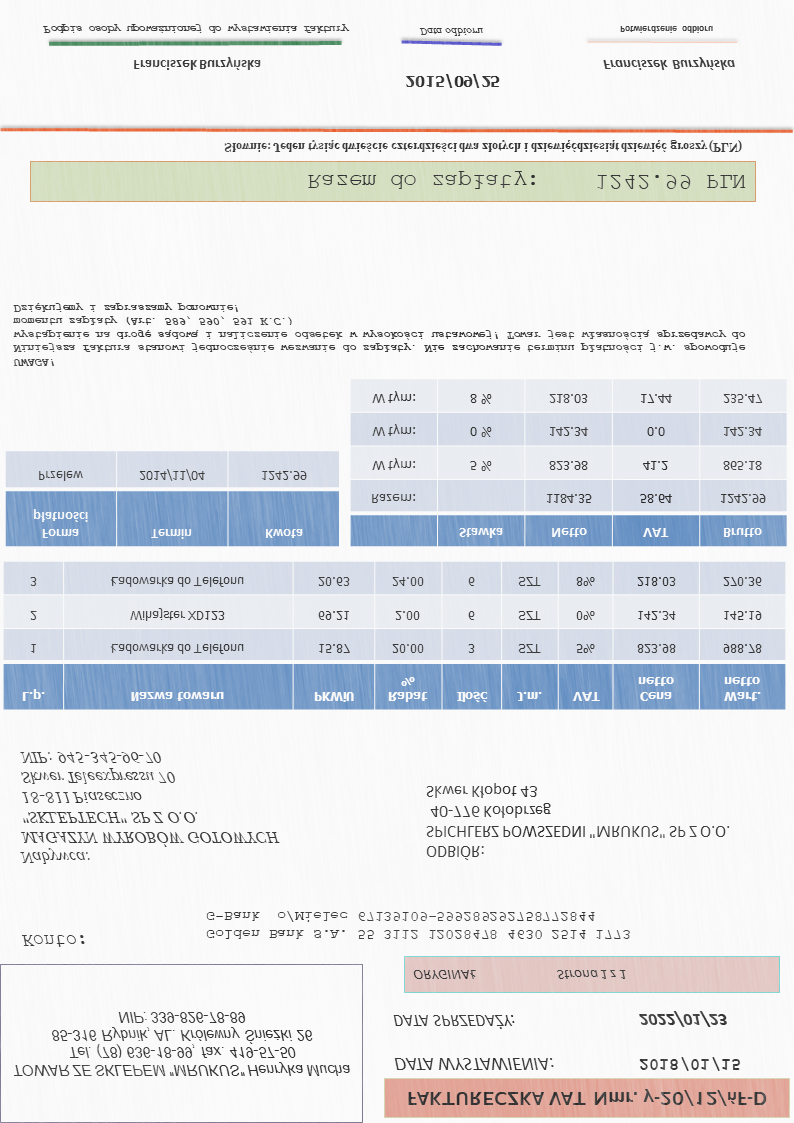Table: (2, 560, 786, 711), (349, 378, 789, 548), (4, 449, 339, 549)
TextBox: (10, 301, 748, 370), (18, 749, 281, 866), (10, 1008, 353, 1082), (424, 782, 730, 863), (205, 907, 633, 943), (305, 168, 746, 194), (223, 139, 743, 156), (403, 1087, 767, 1111), (41, 21, 350, 37), (410, 965, 628, 984), (392, 1055, 556, 1075), (390, 1012, 517, 1031), (600, 55, 736, 72), (130, 56, 262, 73), (637, 1054, 741, 1073), (403, 73, 501, 91), (636, 1011, 731, 1028), (19, 931, 86, 951), (617, 23, 715, 36), (417, 24, 485, 39)
